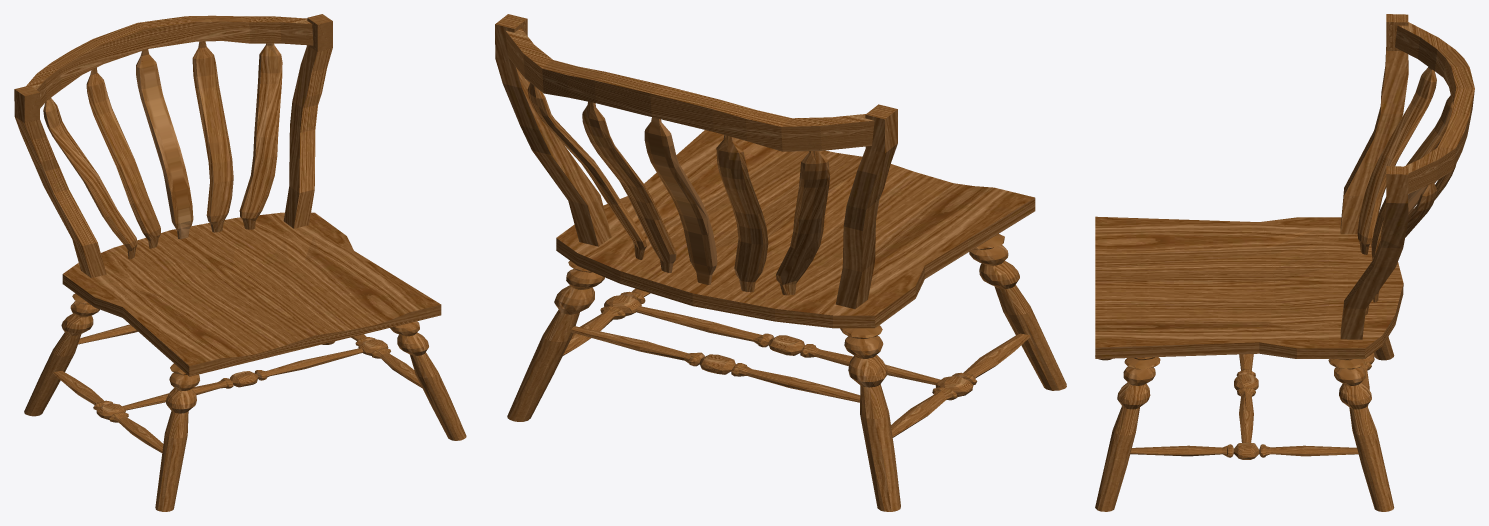
The model's file is sh-bs0-oak-chair.glb.
3 views of the same model, side by side, from view 1: azimuth 30°, elevation 25°; view 2: azimuth 150°, elevation 25°; view 3: azimuth 270°, elevation 25° (orthographic). The views are drawn at different scales.
Parts seen in each view (by area): view 1: Cube.001_Cube.003; view 2: Cube.001_Cube.003; view 3: Cube.001_Cube.003.
Part boxes in pixels (x1,y1,x2,y2): Cube.001_Cube.003: [14, 14, 466, 511]; Cube.001_Cube.003: [495, 14, 1066, 511]; Cube.001_Cube.003: [1095, 14, 1474, 511].
Size of the model in its own units: 0.9996 by 1 by 1.
Materials: 1 (1 with a texture image).
